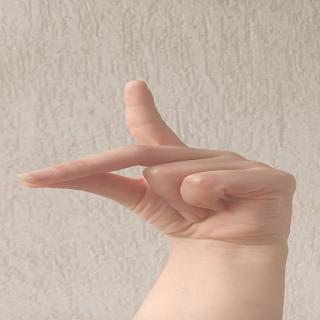TAA: (22, 77, 308, 254)
